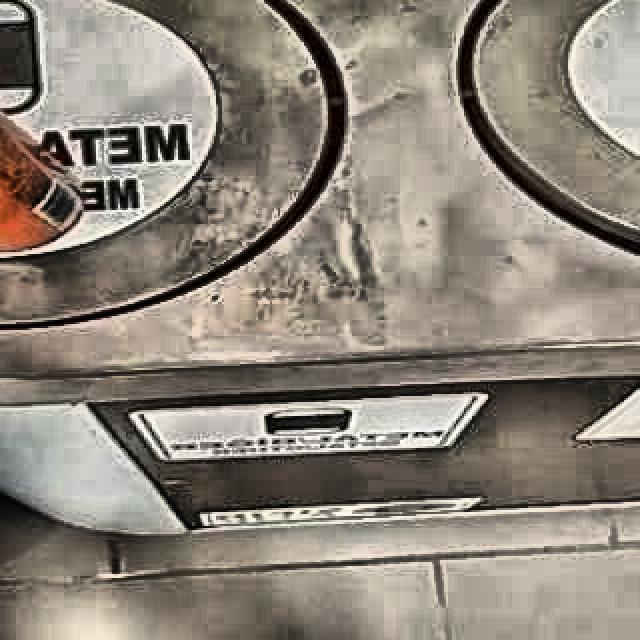metal: (0, 114, 83, 250)
